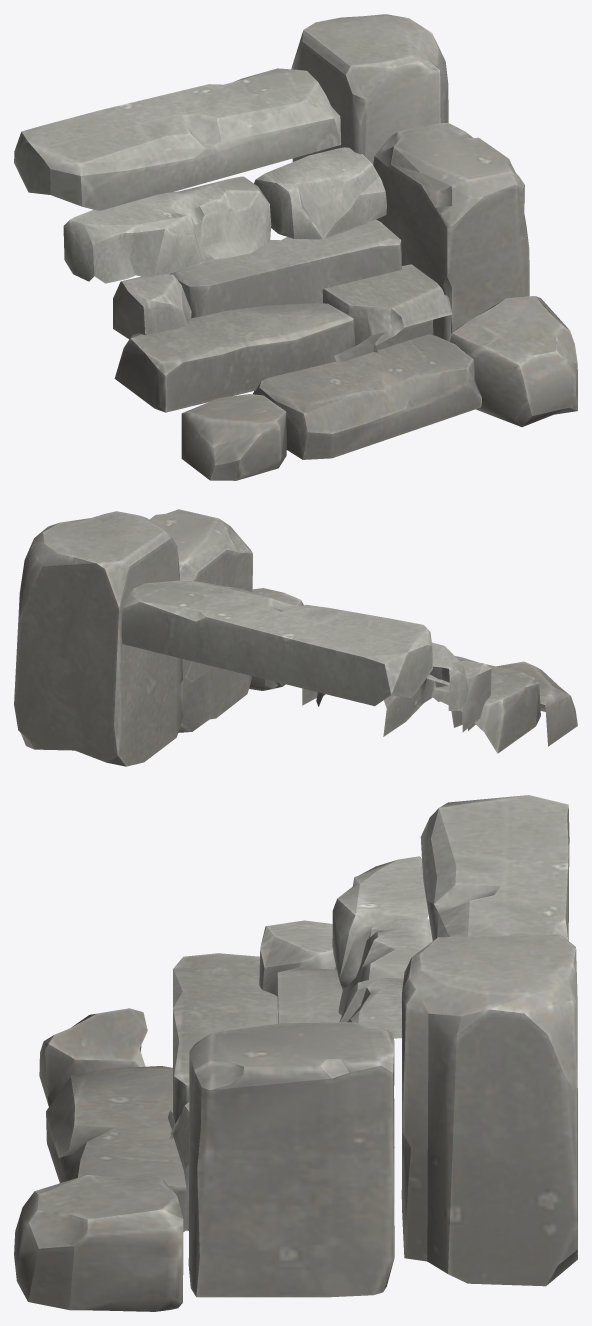
The model's file is ramp_wall_rt_000a.fbx.
3 views of the same model, one above another, from view 1: azimuth 30°, elevation 25°; view 2: azimuth 150°, elevation 25°; view 3: azimuth 270°, elevation 25° (orthographic). The views are drawn at different scales.
Visible parts, largest first — view 1: ramp_wall_rt_000a; view 2: ramp_wall_rt_000a; view 3: ramp_wall_rt_000a.
Boxes of the visible parts, x1,y1,x2,y2 form: ramp_wall_rt_000a: (14,14,577,480); ramp_wall_rt_000a: (14,509,577,766); ramp_wall_rt_000a: (14,795,577,1311).
Bounding box in the file's own units: 27139 × 16363 × 25797.
